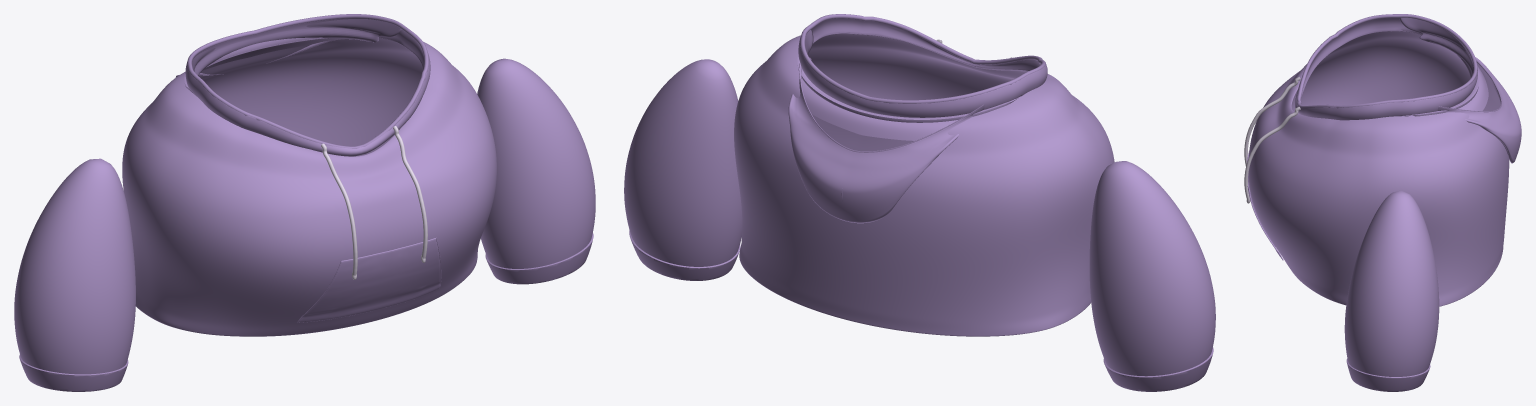
File: Feminine-hoodie-top.glb
3 renders of one model, left to right at view 1: azimuth 30°, elevation 25°; view 2: azimuth 150°, elevation 25°; view 3: azimuth 270°, elevation 25°, orthographic. The views are drawn at different scales.
Visible parts, largest first — view 1: Clothing / tailored203.001, Sleeve / full fabric wrap201 -1.001, Sleeve / full fabric wrap201 1.001, Hoodie / seated pouch202.001, Hoodie / attached opening204.001, Hoodie / rounded resting hood215.001, Hoodie / rolled opening204.001, Sleeve / shaped cuff202 -1.001, Sleeve / shaped cuff202 1.001, Hoodie / front seated cord205 -1.001, Hoodie / front seated cord205 1.001; view 2: Clothing / tailored203.001, Sleeve / full fabric wrap201 -1.001, Sleeve / full fabric wrap201 1.001, Hoodie / rounded resting hood215.001, Hoodie / attached opening204.001, Hoodie / rolled opening204.001, Sleeve / shaped cuff202 -1.001, Sleeve / shaped cuff202 1.001; view 3: Clothing / tailored203.001, Sleeve / full fabric wrap201 1.001, Hoodie / attached opening204.001, Hoodie / rounded resting hood215.001, Hoodie / rolled opening204.001, Sleeve / shaped cuff202 1.001, Hoodie / front seated cord205 1.001, Hoodie / front seated cord205 -1.001.
Boxes of the visible parts, x1,y1,x2,y2 form: Clothing / tailored203.001: [122, 37, 496, 336]; Sleeve / full fabric wrap201 -1.001: [14, 158, 135, 374]; Sleeve / full fabric wrap201 1.001: [477, 58, 595, 268]; Hoodie / seated pouch202.001: [298, 238, 440, 322]; Hoodie / attached opening204.001: [184, 18, 430, 156]; Hoodie / rounded resting hood215.001: [175, 19, 401, 77]; Hoodie / rolled opening204.001: [187, 14, 428, 148]; Sleeve / shaped cuff202 -1.001: [19, 355, 128, 391]; Sleeve / shaped cuff202 1.001: [485, 233, 593, 284]; Hoodie / front seated cord205 -1.001: [321, 143, 357, 275]; Hoodie / front seated cord205 1.001: [393, 126, 427, 258]; Clothing / tailored203.001: [734, 32, 1114, 336]; Sleeve / full fabric wrap201 -1.001: [1089, 161, 1215, 376]; Sleeve / full fabric wrap201 1.001: [624, 59, 742, 266]; Hoodie / rounded resting hood215.001: [788, 29, 984, 223]; Hoodie / attached opening204.001: [797, 18, 1047, 122]; Hoodie / rolled opening204.001: [800, 14, 1045, 103]; Sleeve / shaped cuff202 -1.001: [1103, 347, 1213, 391]; Sleeve / shaped cuff202 1.001: [629, 230, 740, 280]; Clothing / tailored203.001: [1248, 30, 1509, 306]; Sleeve / full fabric wrap201 1.001: [1344, 190, 1439, 376]; Hoodie / attached opening204.001: [1295, 17, 1479, 120]; Hoodie / rounded resting hood215.001: [1399, 17, 1521, 163]; Hoodie / rolled opening204.001: [1297, 14, 1477, 108]; Sleeve / shaped cuff202 1.001: [1346, 358, 1430, 391]; Hoodie / front seated cord205 1.001: [1244, 106, 1300, 199]; Hoodie / front seated cord205 -1.001: [1244, 76, 1300, 165].
Size of the model in its own units: 1.06 by 0.4801 by 0.5252.
